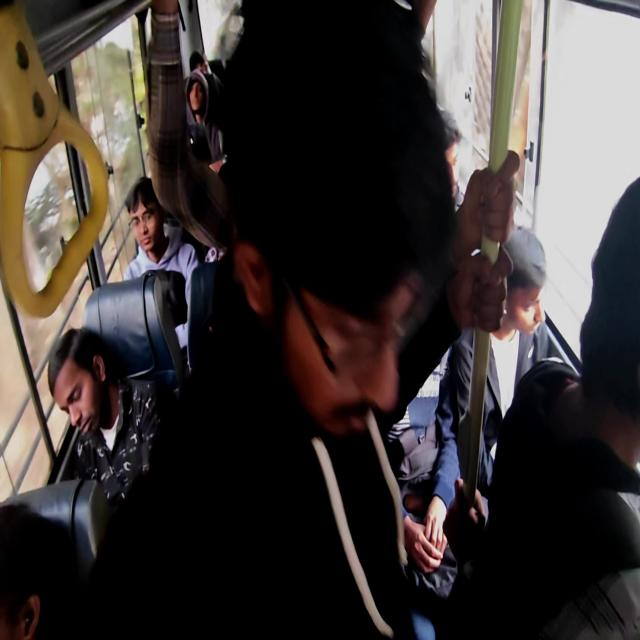person: (253, 40, 420, 394), (563, 213, 640, 482), (497, 233, 573, 384), (441, 123, 501, 248), (119, 173, 186, 260), (50, 306, 94, 432), (0, 491, 33, 640), (174, 73, 211, 136), (196, 51, 214, 89)
